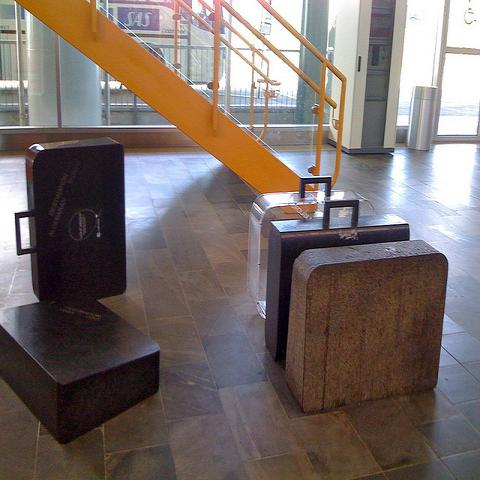bus: (97, 0, 227, 91)
